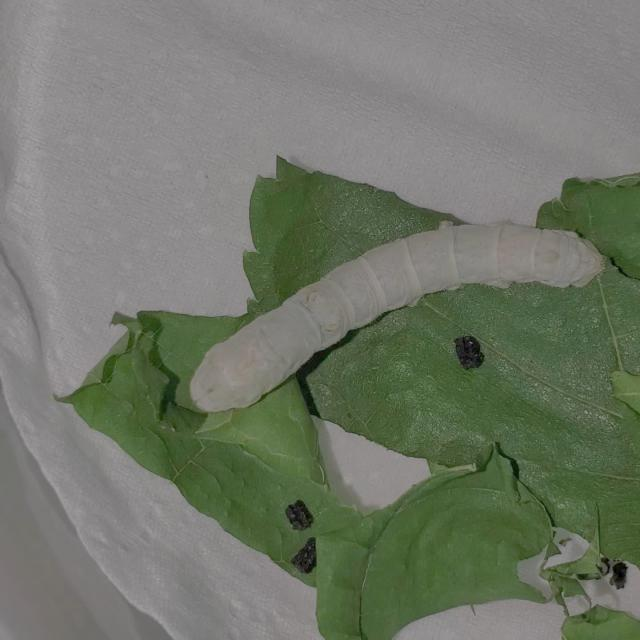Healthy: (168, 196, 619, 433)
